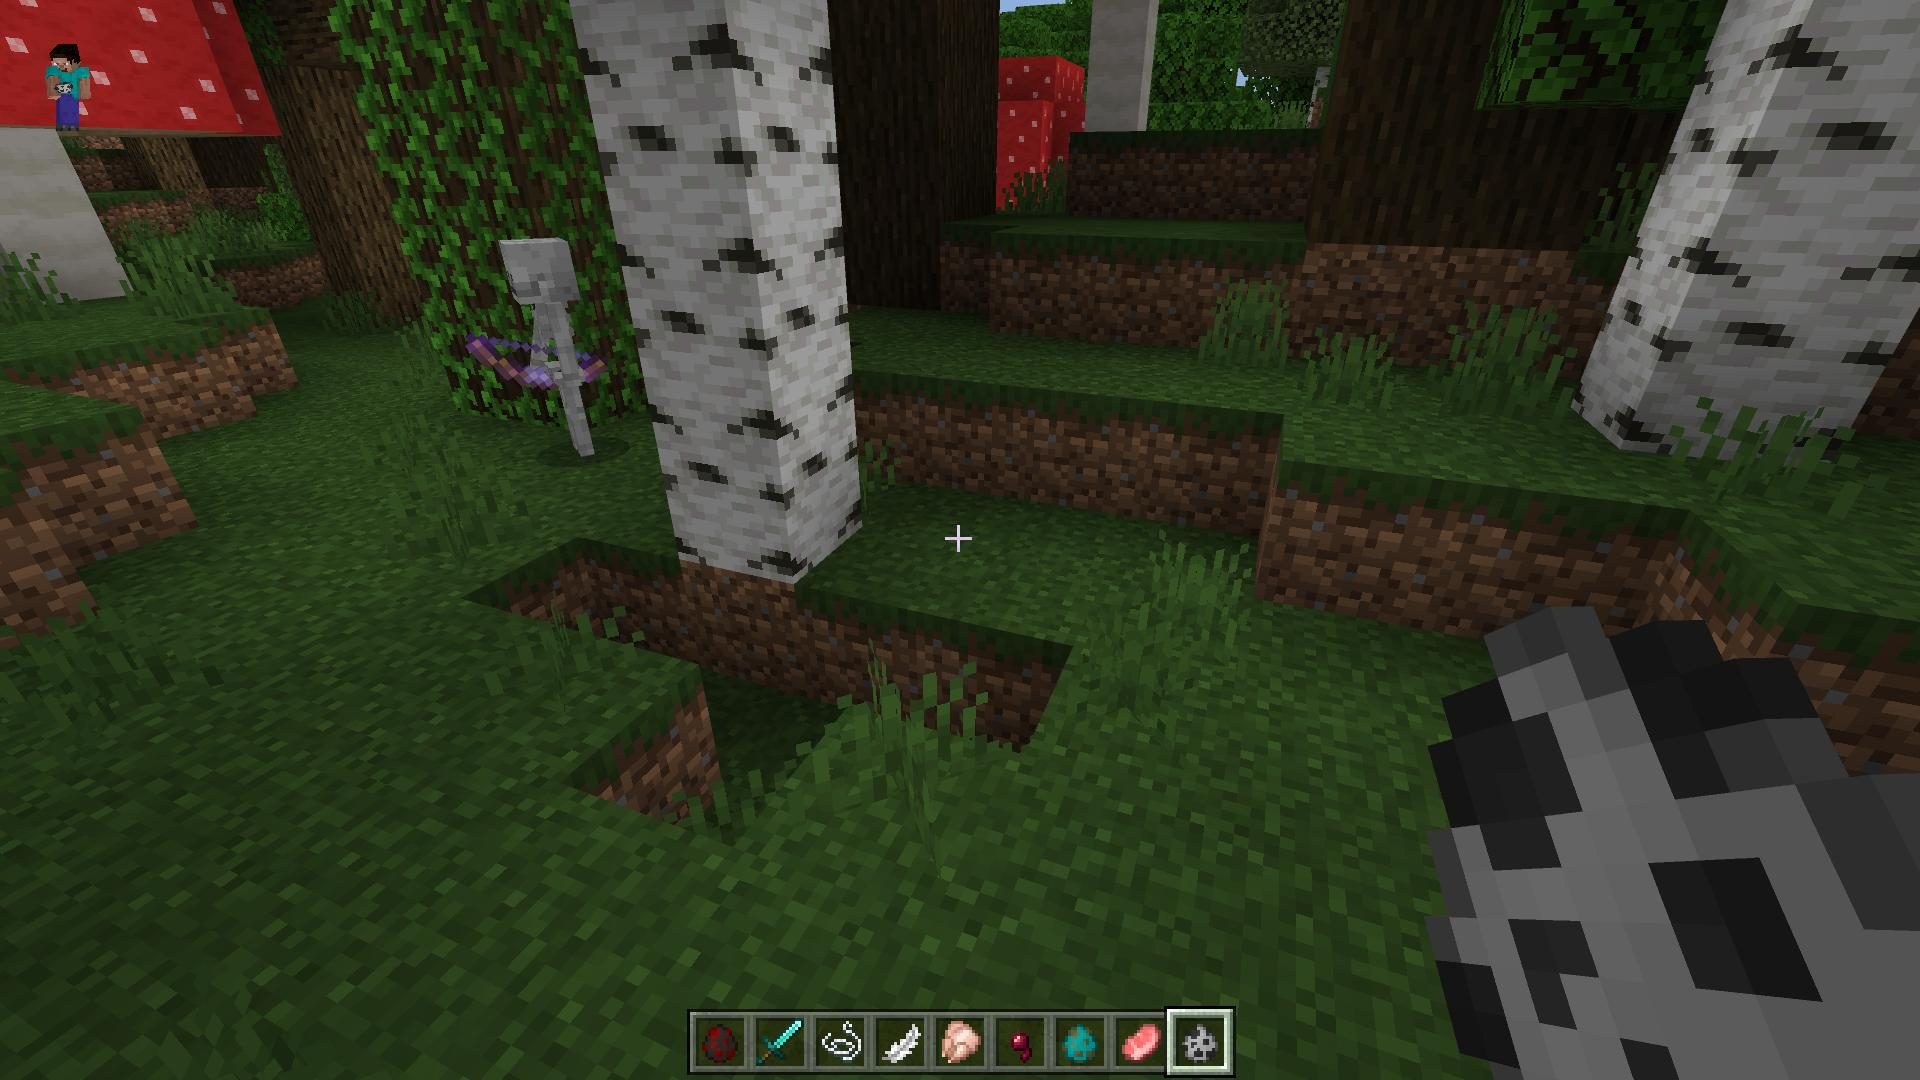skeleton: (468, 235, 615, 463)
